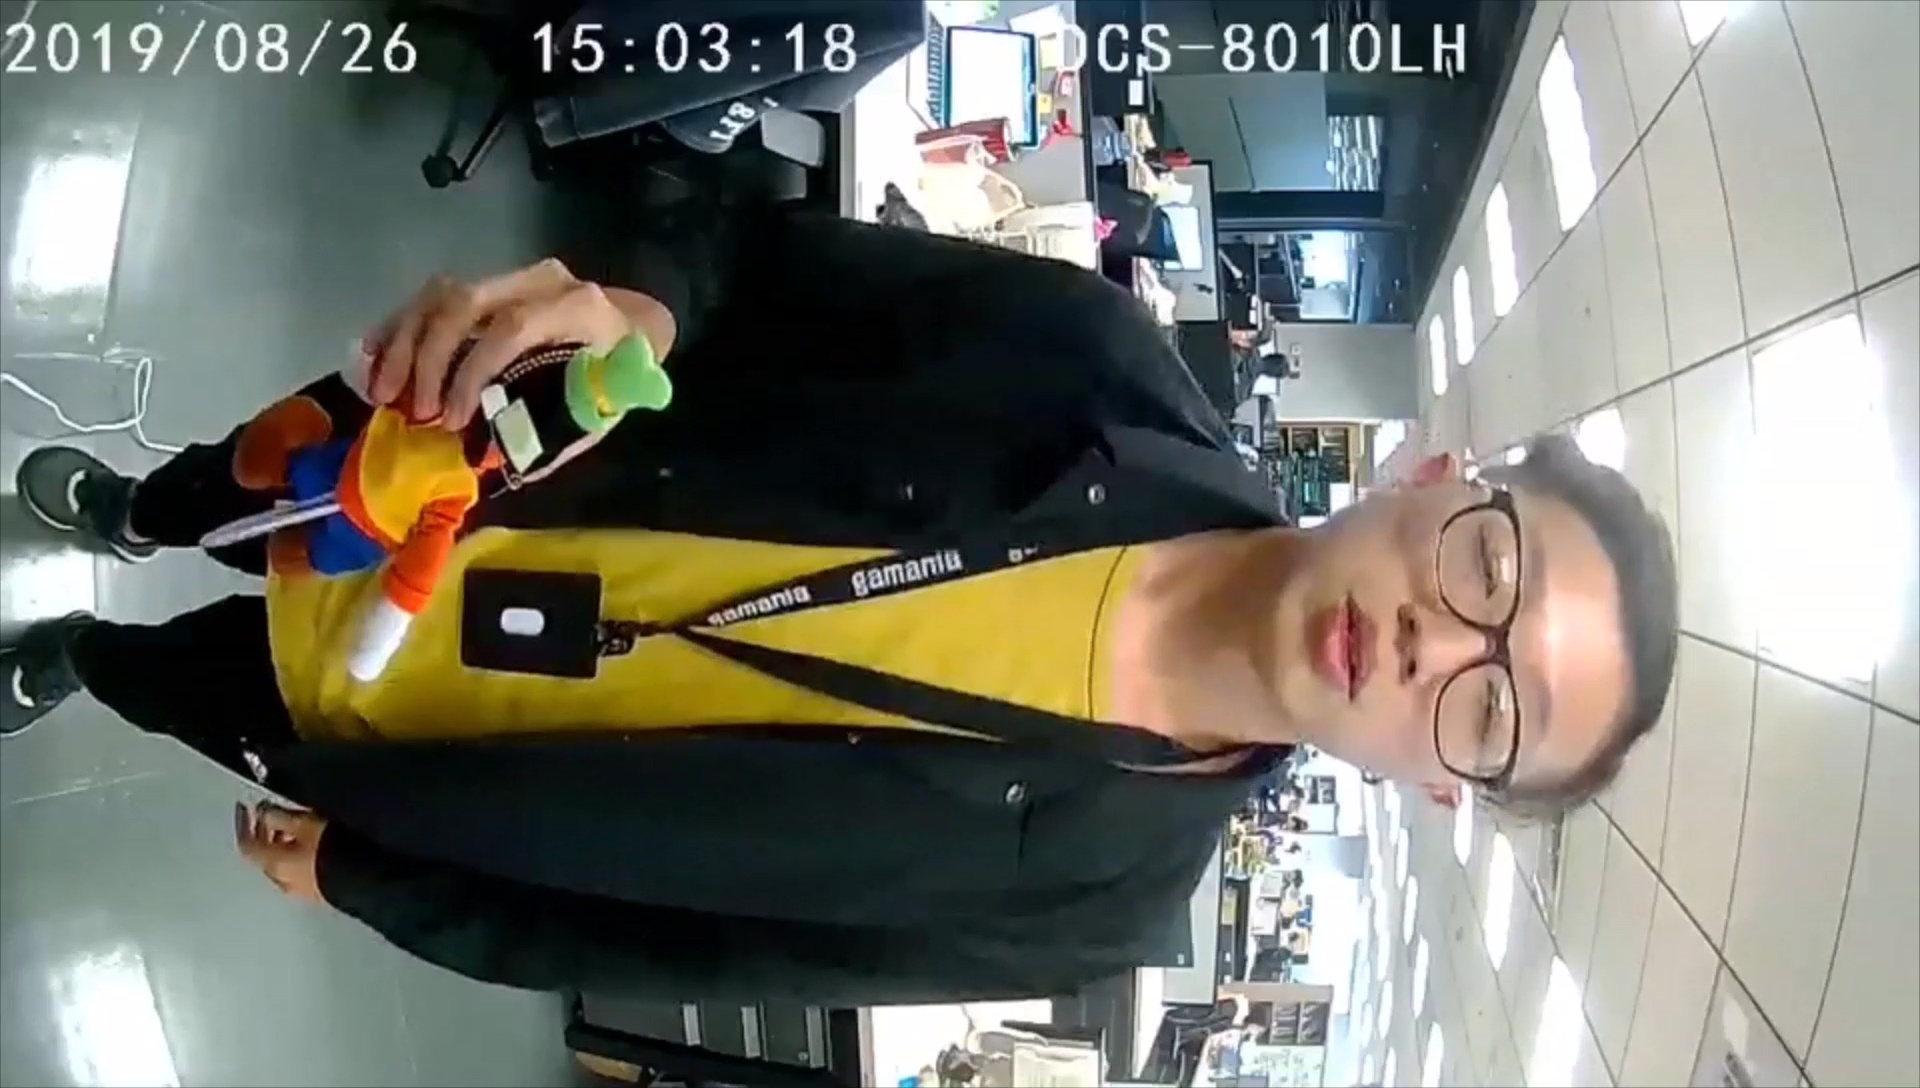goofy: (231, 328, 674, 682)
